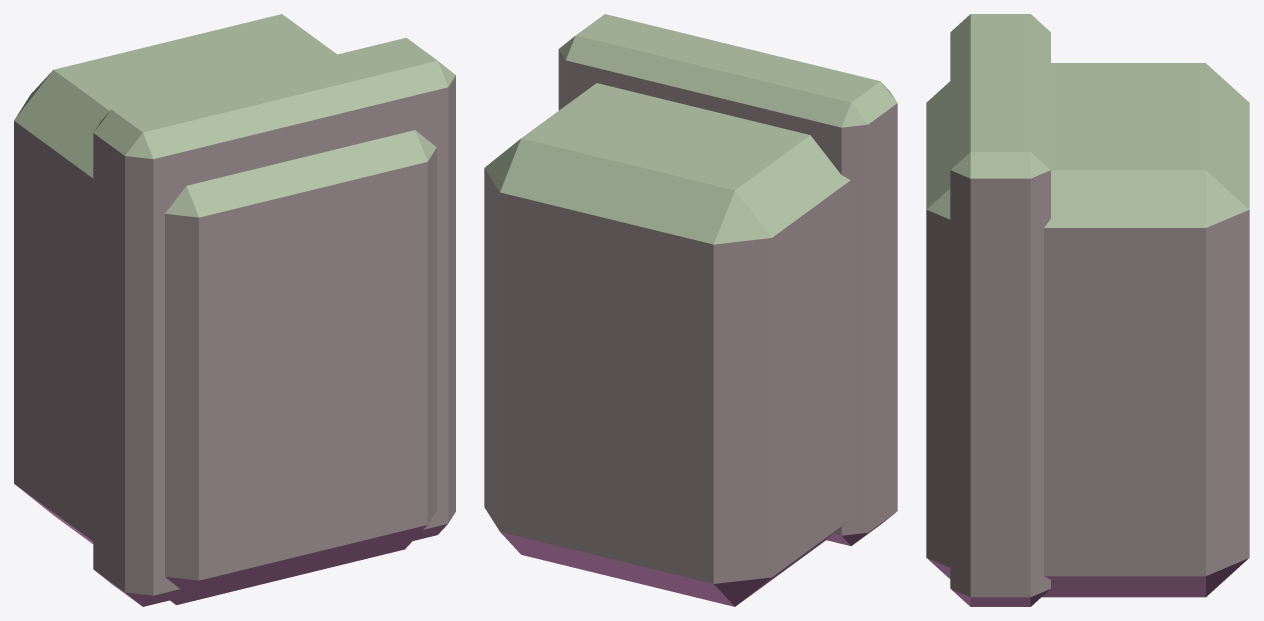
Rendered from npc_module_foot_v01.glb.
3 renders of one model, left to right at view 1: azimuth 30°, elevation 25°; view 2: azimuth 150°, elevation 25°; view 3: azimuth 270°, elevation 25°, orthographic. The views are drawn at different scales.
Visible parts, largest first — view 1: GEO_npc_module_foot_v01; view 2: GEO_npc_module_foot_v01; view 3: GEO_npc_module_foot_v01.
Boxes of the visible parts, box(x1,y1,x2,y2) form: GEO_npc_module_foot_v01: box(14, 14, 455, 606); GEO_npc_module_foot_v01: box(484, 14, 897, 606); GEO_npc_module_foot_v01: box(926, 14, 1249, 606).
Size of the model in its own units: 0.84 by 1.17 by 0.74.
